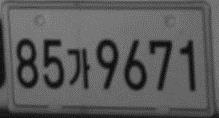1: (177, 37, 199, 92)
5: (41, 37, 64, 89)
6: (123, 38, 148, 91)
7: (148, 38, 173, 91)
8: (14, 37, 39, 88)
9: (95, 38, 119, 90)
가: (66, 46, 91, 90)
